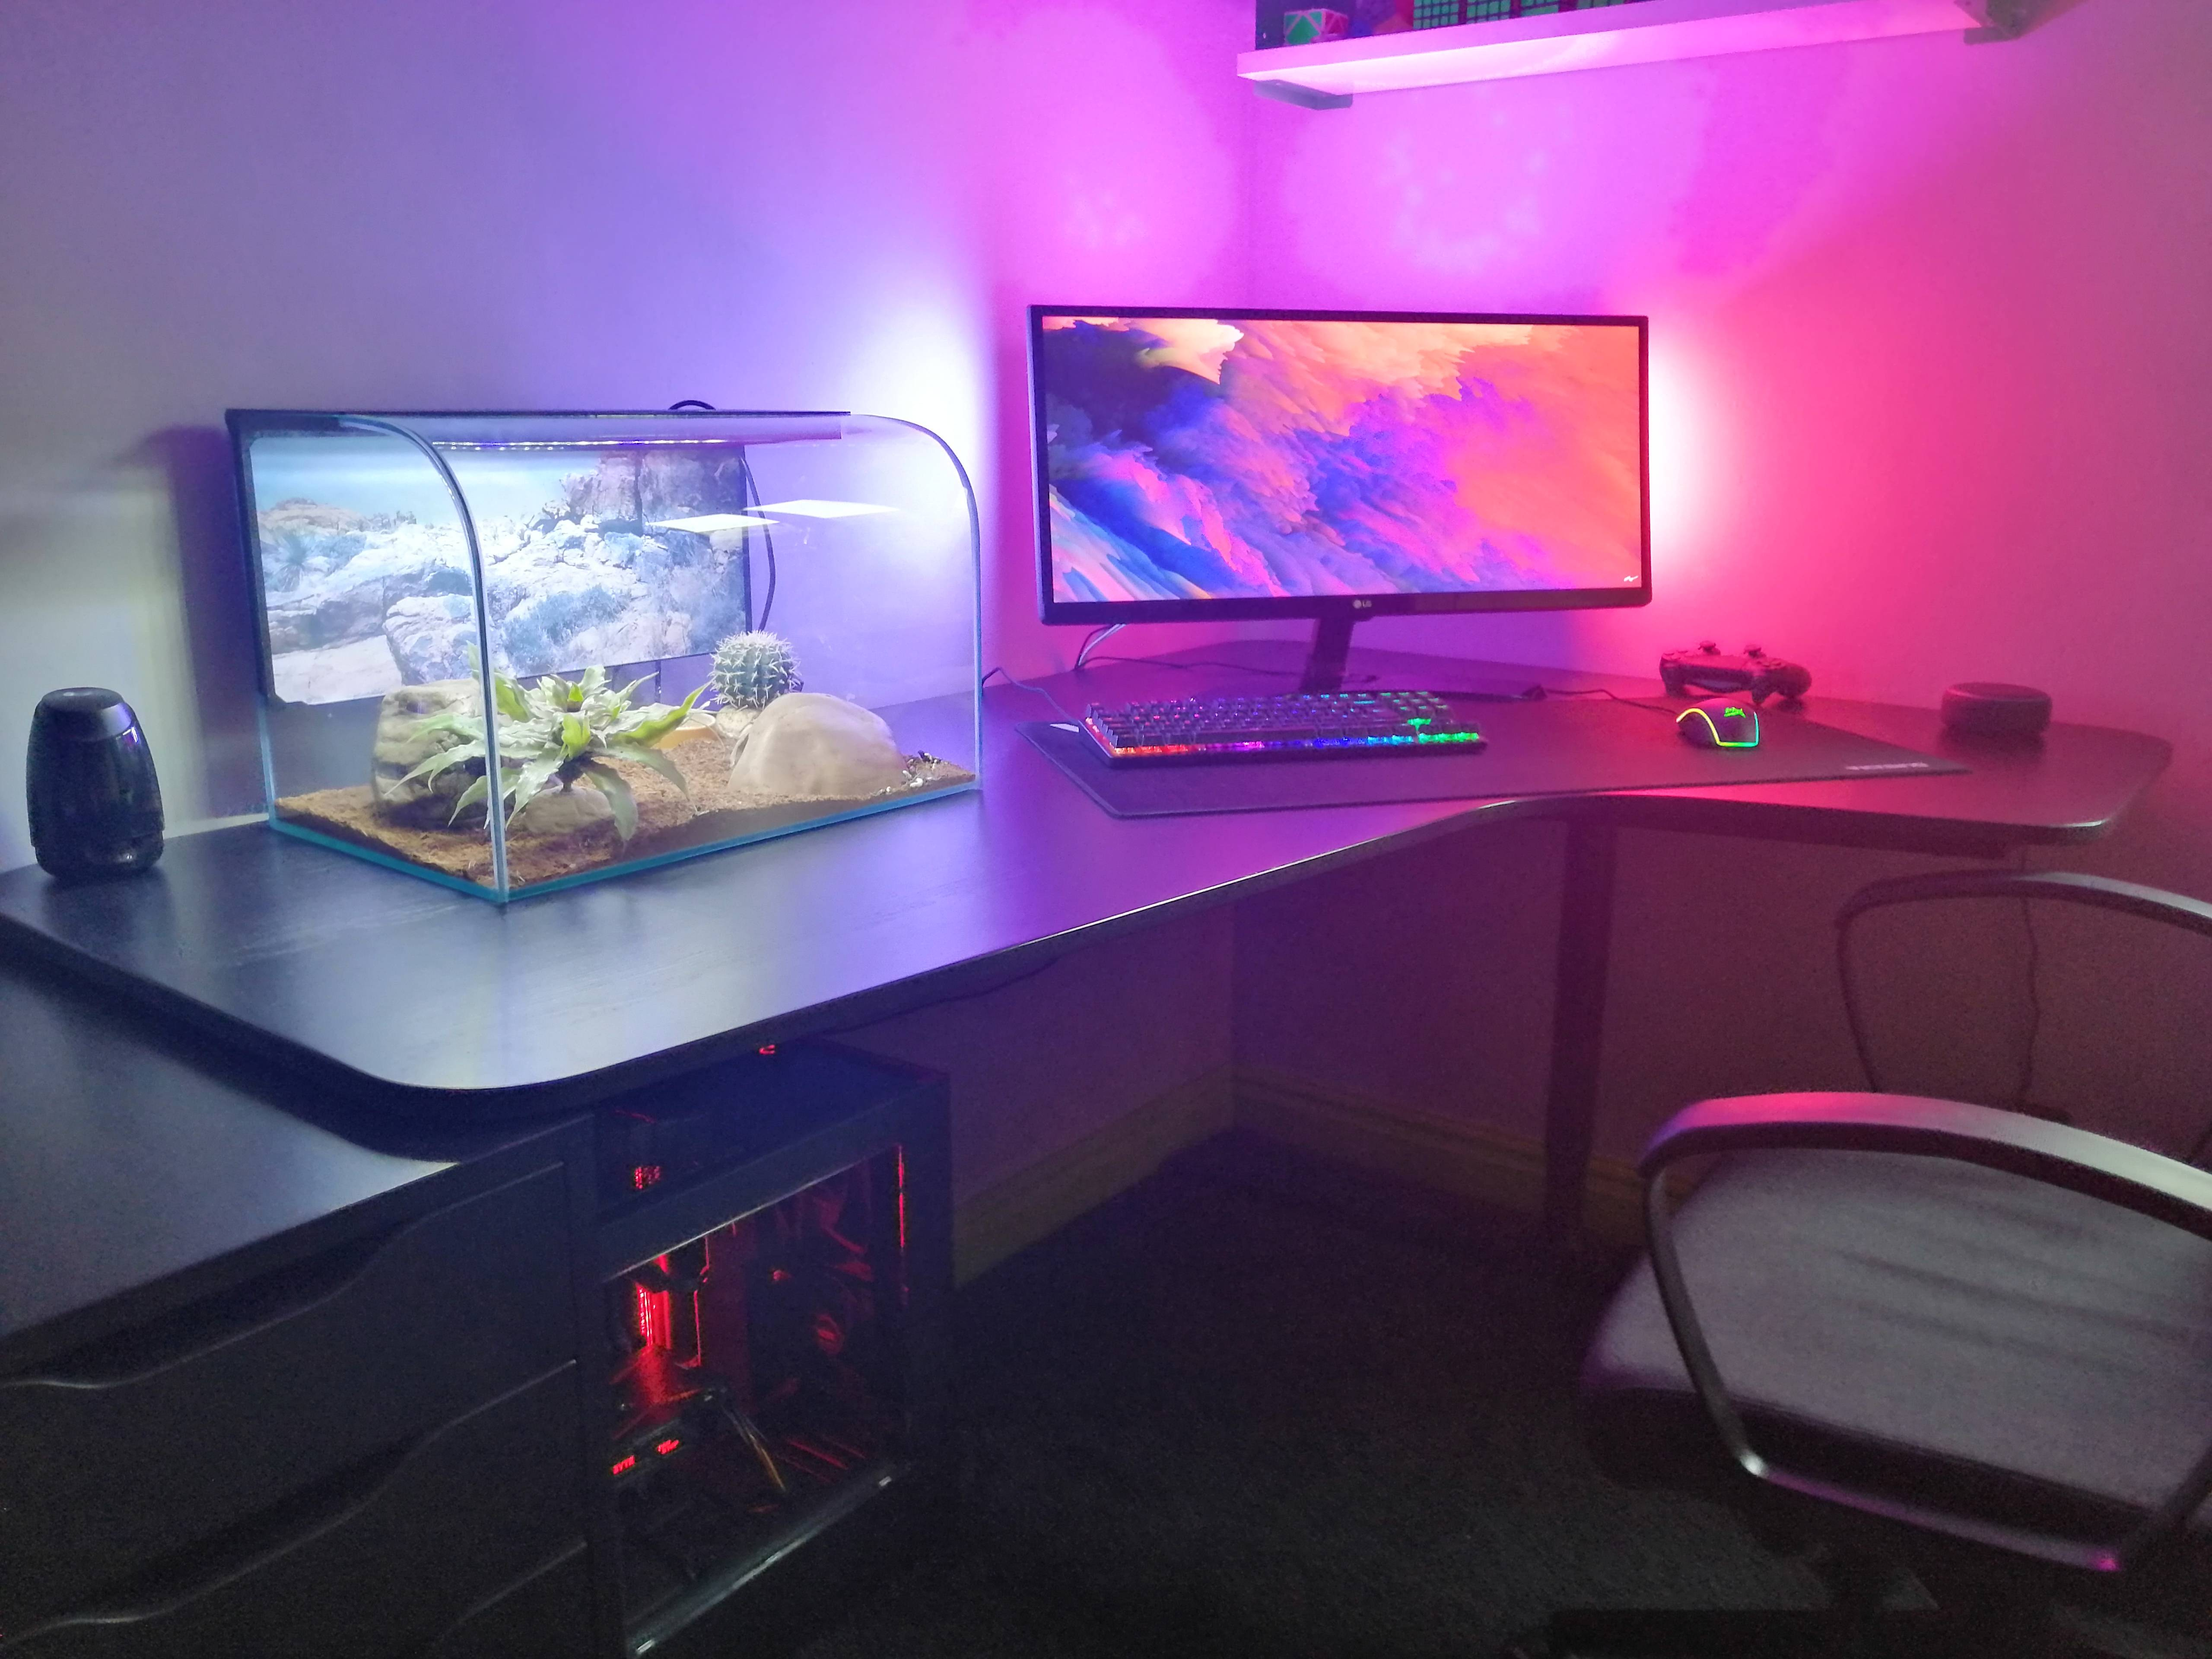Chair (Generic): (1489, 833, 2212, 1650)
Decoration (Generic): (185, 382, 1043, 903)
Decoration (Rubric's Cube): (1413, 0, 1465, 26), (1465, 0, 1512, 19), (1521, 0, 1566, 16), (1568, 0, 1632, 10)
Desk (Generic): (0, 660, 2188, 1096)
Desktop (Generic): (552, 1073, 965, 1647)
Gaming Controller: (1658, 631, 1822, 704)
IoT Devices (Raspberry, Arduino, etc): (1923, 667, 2064, 751)
Keyboard (Gaming): (1089, 685, 1512, 774)
Monitor (Landscape): (1012, 296, 1663, 631)
Mouse (Gaming): (1676, 695, 1771, 751)
Mousepad (Gaming): (1017, 669, 1944, 835)
Storage Drawer: (0, 1140, 613, 1647)
